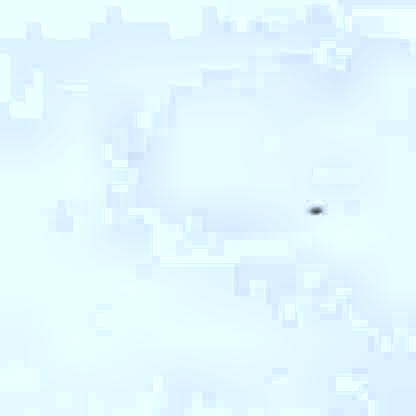golfball: (306, 203, 322, 214)
